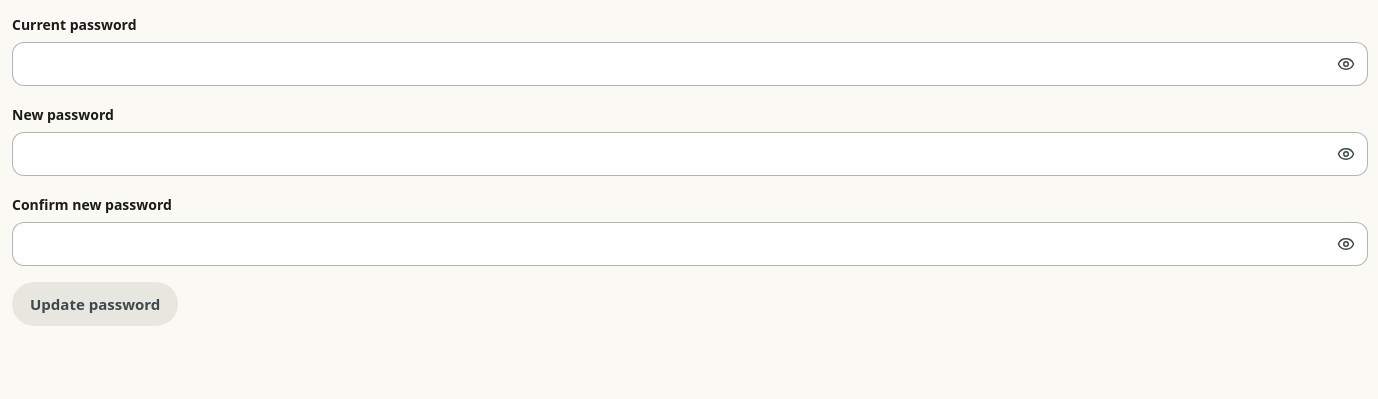
password rotation installation › reports the completed server change truthfully, clears every secret and publishes no failed installation
The width and height of the screenshot is (1378, 399).
Type "old-secret" into the password field labelled "Current password" at (690, 64), box [12,42,1368,86]
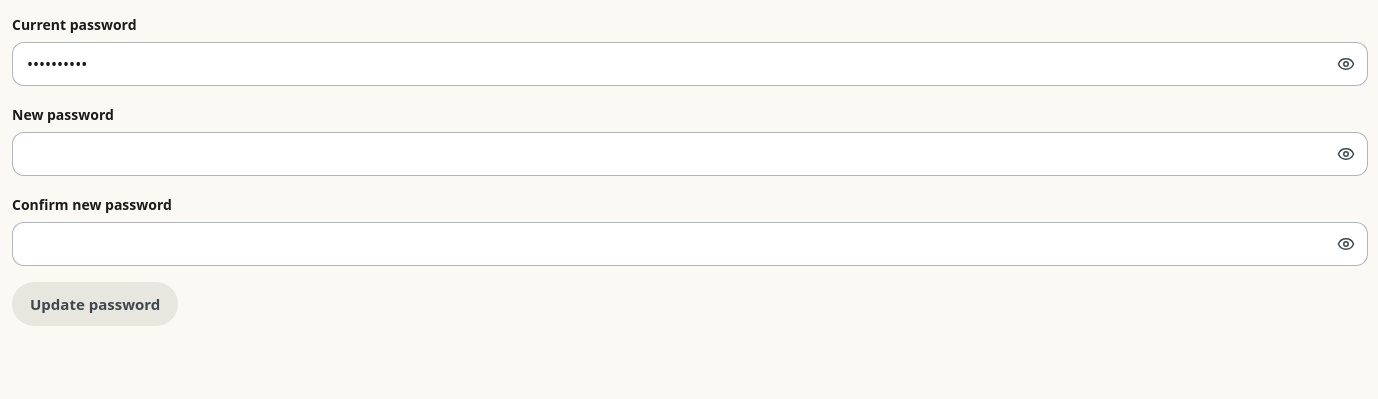
Type "new-secret-123" into the password field labelled "New password" at (690, 154), box [12,132,1368,176]
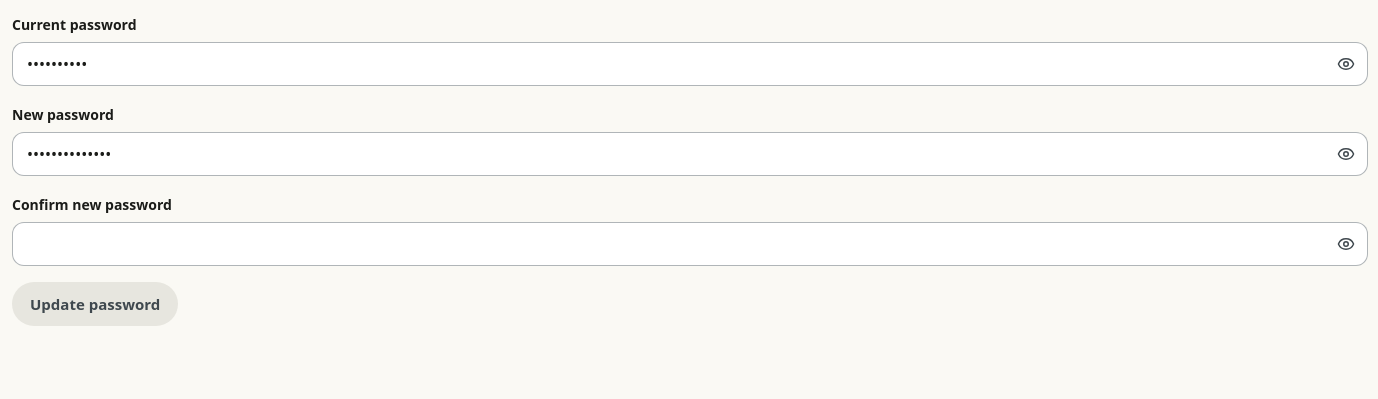
Type "new-secret-123" into the password field labelled "Confirm new password" at (690, 244), box [12,222,1368,266]
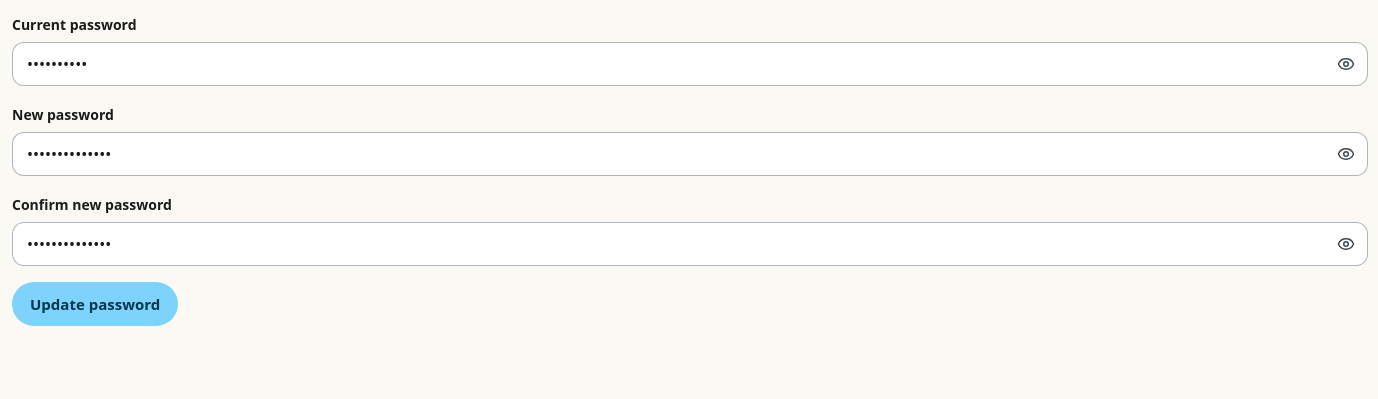
Submit the form labelled "Current password"
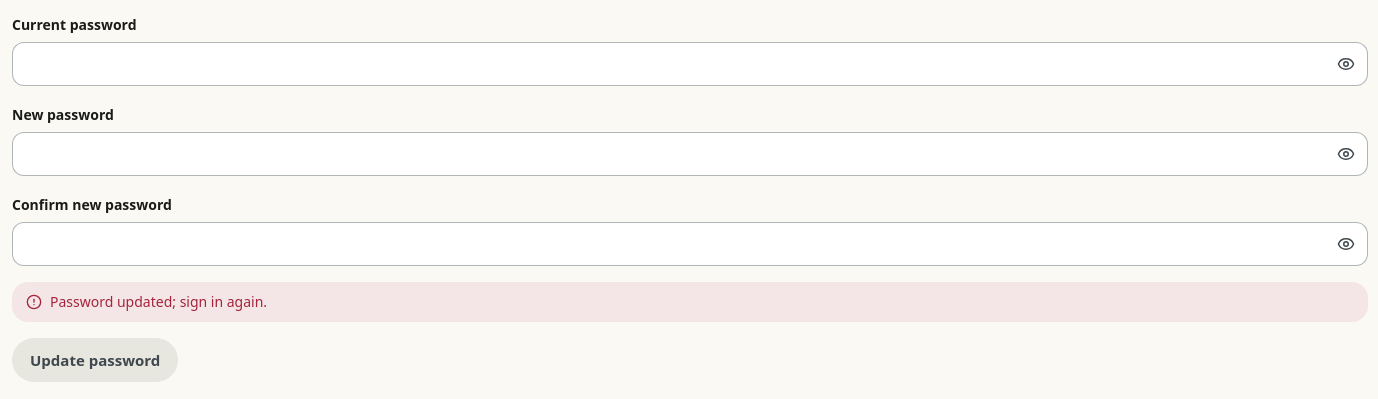
Result: the text "Password updated; sign in again." is shown at [12,282,1368,322]
Result: the password field labelled "Current password" is empty at [12,42,1368,86]
Result: the password field labelled "New password" is empty at [12,132,1368,176]
